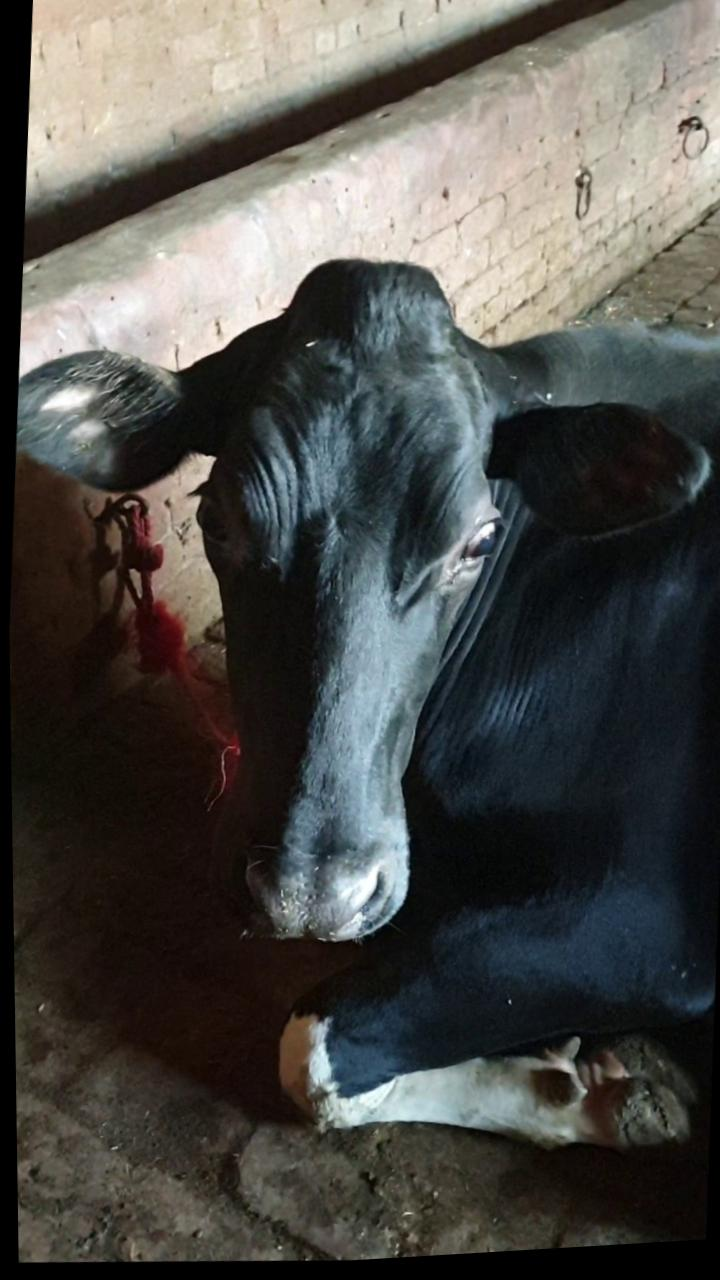cows: (153, 250, 532, 998)
